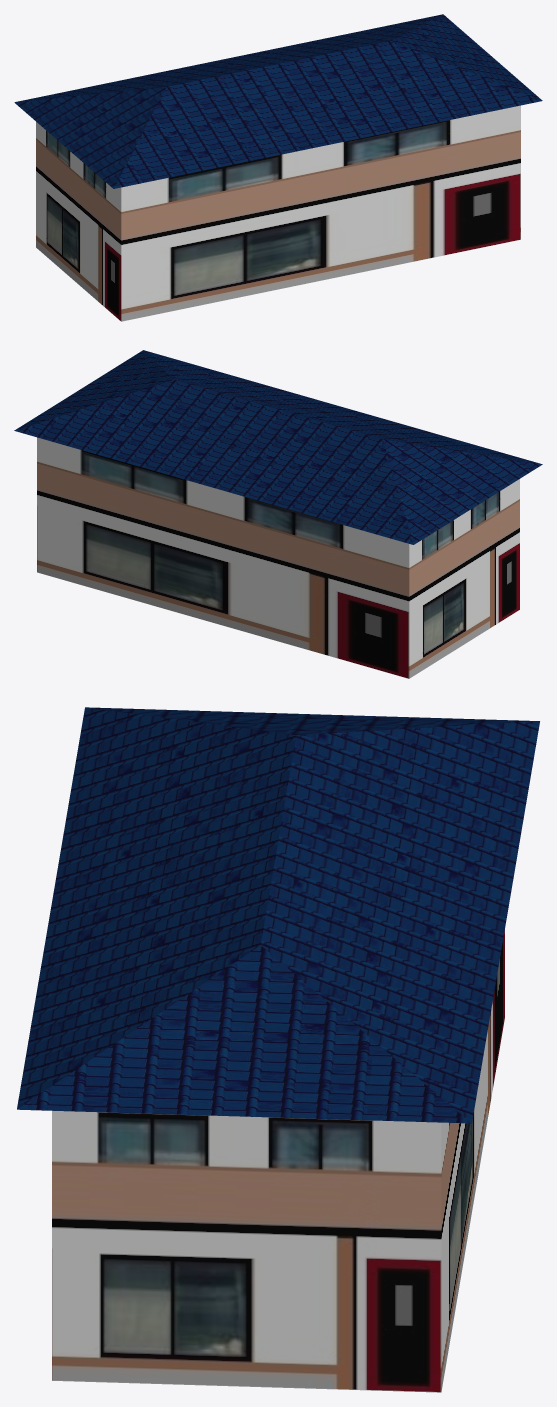
3 views of the same model, one above another, from view 1: azimuth 30°, elevation 25°; view 2: azimuth 150°, elevation 25°; view 3: azimuth 270°, elevation 25° (orthographic). The views are drawn at different scales.
Parts seen in each view (by area): view 1: CityEngineMaterial_5_m, CityEngineMaterial_6_m; view 2: CityEngineMaterial_5_m, CityEngineMaterial_6_m; view 3: CityEngineMaterial_6_m, CityEngineMaterial_5_m.
Boxes of the visible parts, bbox=[...] form: CityEngineMaterial_5_m: bbox=[36, 105, 520, 321]; CityEngineMaterial_6_m: bbox=[14, 14, 542, 188]; CityEngineMaterial_5_m: bbox=[37, 437, 519, 678]; CityEngineMaterial_6_m: bbox=[14, 350, 542, 544]; CityEngineMaterial_6_m: bbox=[17, 707, 539, 1123]; CityEngineMaterial_5_m: bbox=[52, 930, 504, 1392].
Size of the model in its own units: 28.07 by 11.3 by 14.92.
